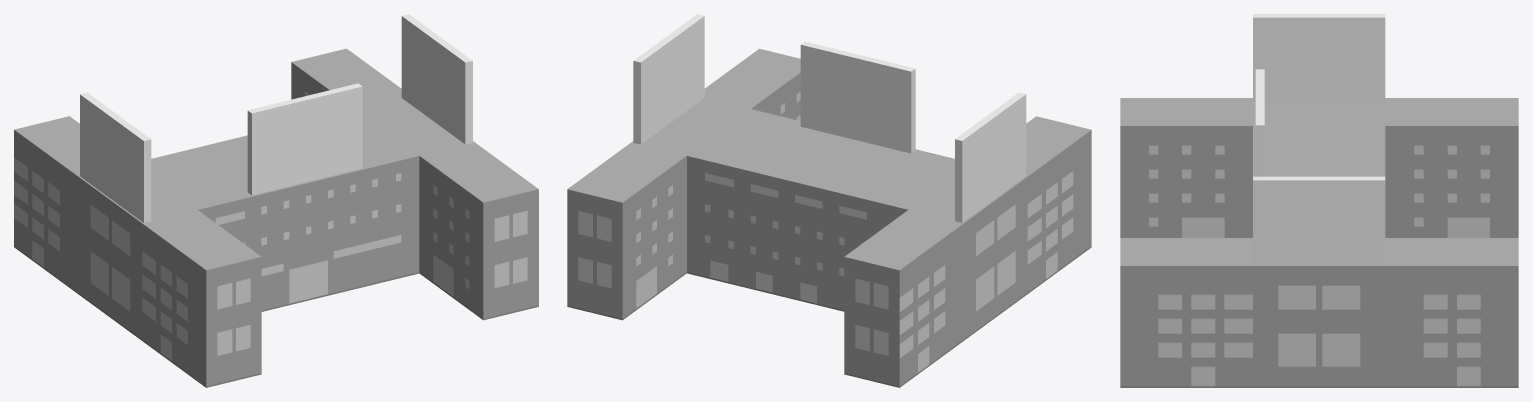
Rendered from Hospital.fbx.
3 renders of one model, left to right at view 1: azimuth 30°, elevation 25°; view 2: azimuth 150°, elevation 25°; view 3: azimuth 270°, elevation 25°, orthographic. The views are drawn at different scales.
Parts seen in each view (by area): view 1: Hospital, Hospital_Sign; view 2: Hospital, Hospital_Sign; view 3: Hospital, Hospital_Sign.
Part boxes in pixels (x1=…): Hospital: x1=14, y1=48, x2=538, y2=387; Hospital_Sign: x1=80, y1=14, x2=472, y2=222; Hospital: x1=567, y1=48, x2=1091, y2=387; Hospital_Sign: x1=633, y1=14, x2=1026, y2=222; Hospital: x1=1120, y1=98, x2=1518, y2=387; Hospital_Sign: x1=1253, y1=14, x2=1385, y2=265.
Bounding box in the file's own units: 5999 × 3441 × 6004.
